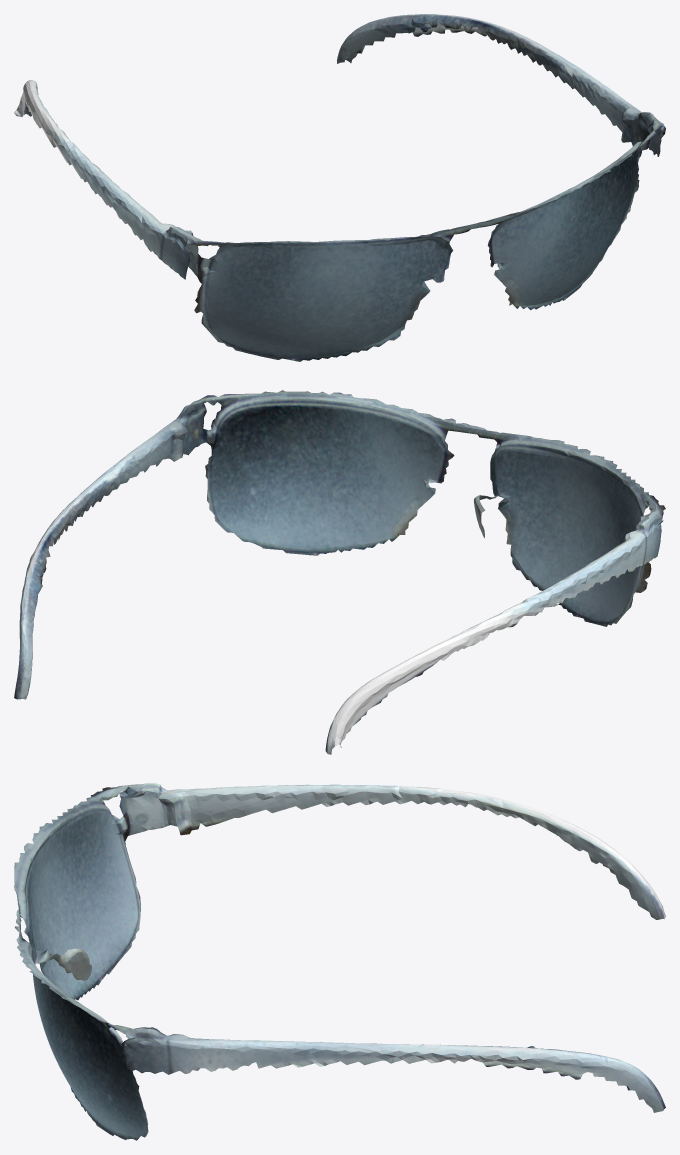
File: scan_align.obj
3 renders of one model, top to bottom at view 1: azimuth 30°, elevation 25°; view 2: azimuth 150°, elevation 25°; view 3: azimuth 270°, elevation 25°, orthographic. The views are drawn at different scales.
Size of the model in its own units: 0.144 by 0.0407 by 0.1553.
1 material, 1 textured.
